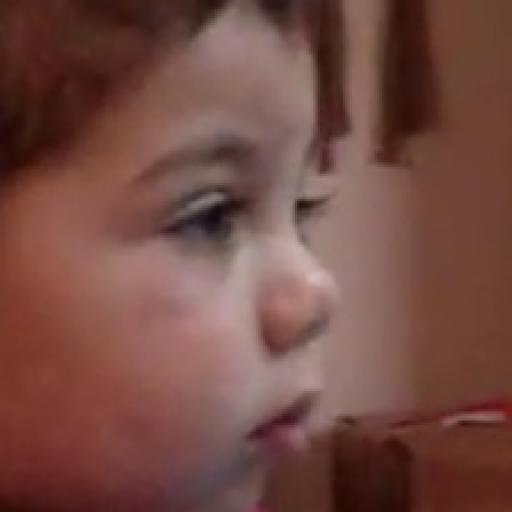Autism: (40, 25, 368, 480)
